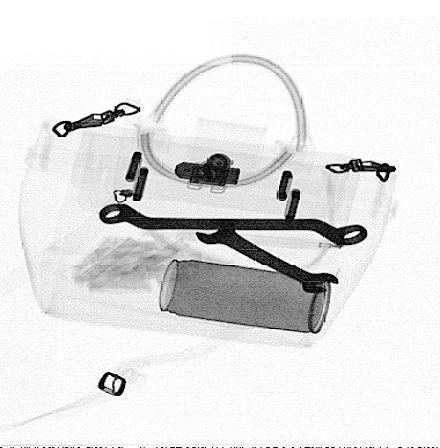Wrench: (99, 202, 371, 247), (194, 222, 339, 295)
